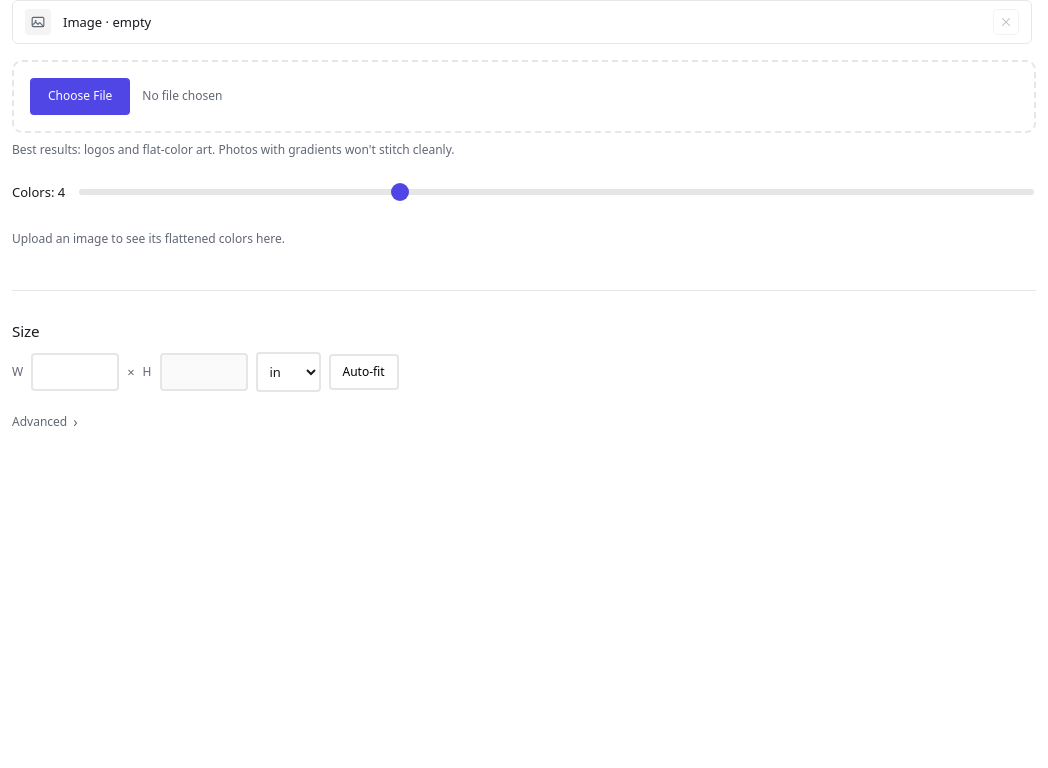
it: image (browser lane): upload, colour count and swatches visible; ranges, merge, reset, background Advanced
Check: the text "Colors: 4" is shown, box [12,183,1036,202]
Check: the text "Remove background" is not shown
Click the button with test id "advanced-toggle" at (45, 422), box [12,408,78,437]
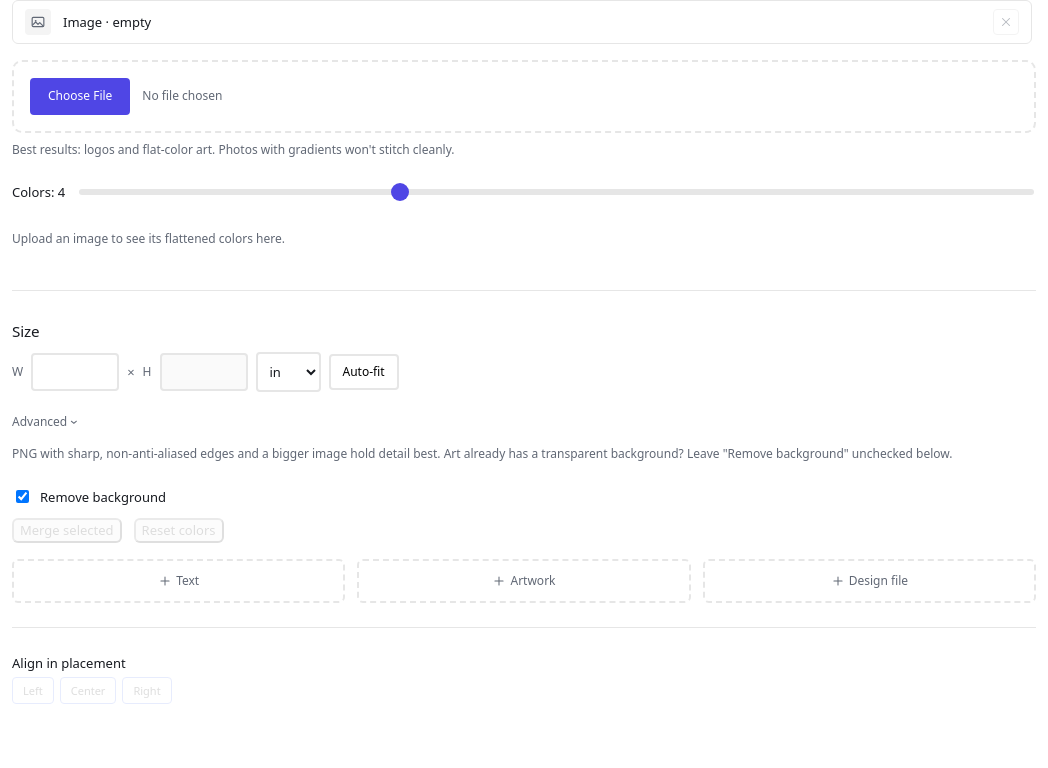
Check: the text "Remove background" is shown, box [16,488,166,506]
Check: the button "Merge selected" is shown, box [12,518,122,543]
